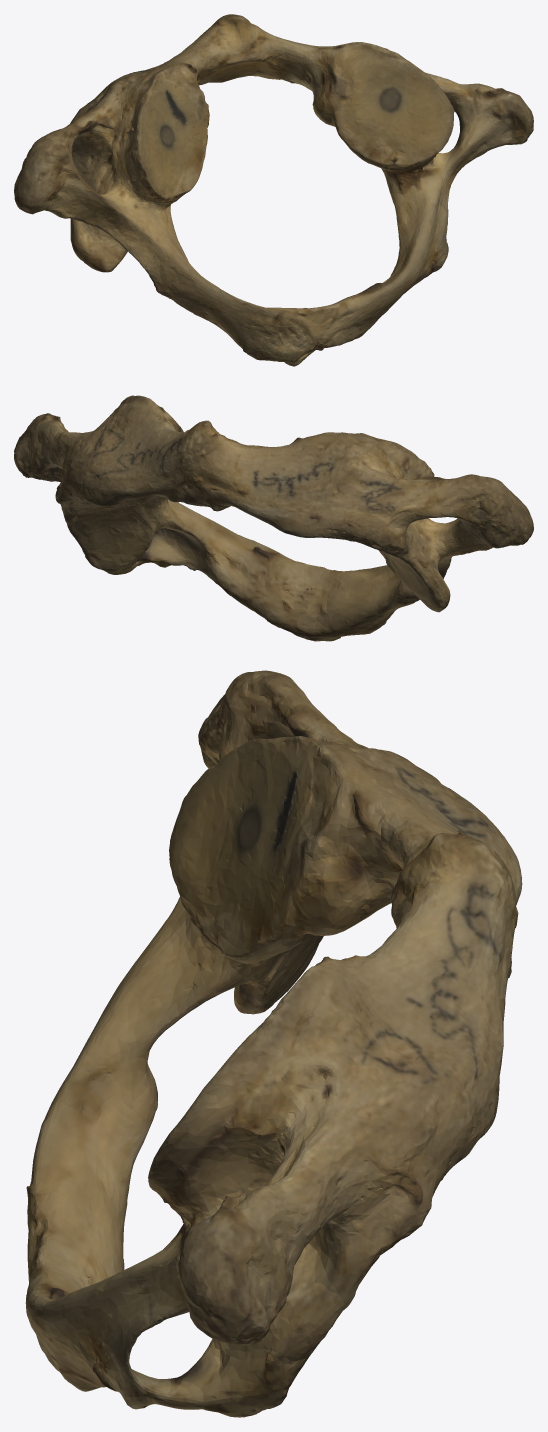
File: sheya_01_LP.obj
The picture shows the model from 3 angles, top to bottom: view 1: azimuth 30°, elevation 25°; view 2: azimuth 150°, elevation 25°; view 3: azimuth 270°, elevation 25°; orthographic projection. The views are drawn at different scales.
Visible parts, largest first — view 1: 2P_f; view 2: 2P_f; view 3: 2P_f.
Boxes of the visible parts, left/top/right/bottom form: 2P_f: left=14, top=14, right=533, bottom=366; 2P_f: left=14, top=395, right=533, bottom=641; 2P_f: left=25, top=670, right=522, bottom=1417.
Size of the model in its own units: 77.44 by 39.71 by 32.53.
Materials: 1 (1 with a texture image).
